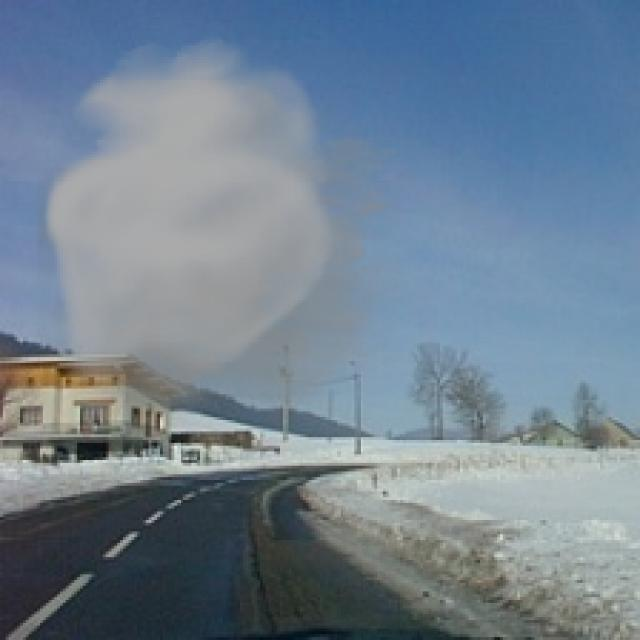Smoke: (37, 37, 437, 434)
